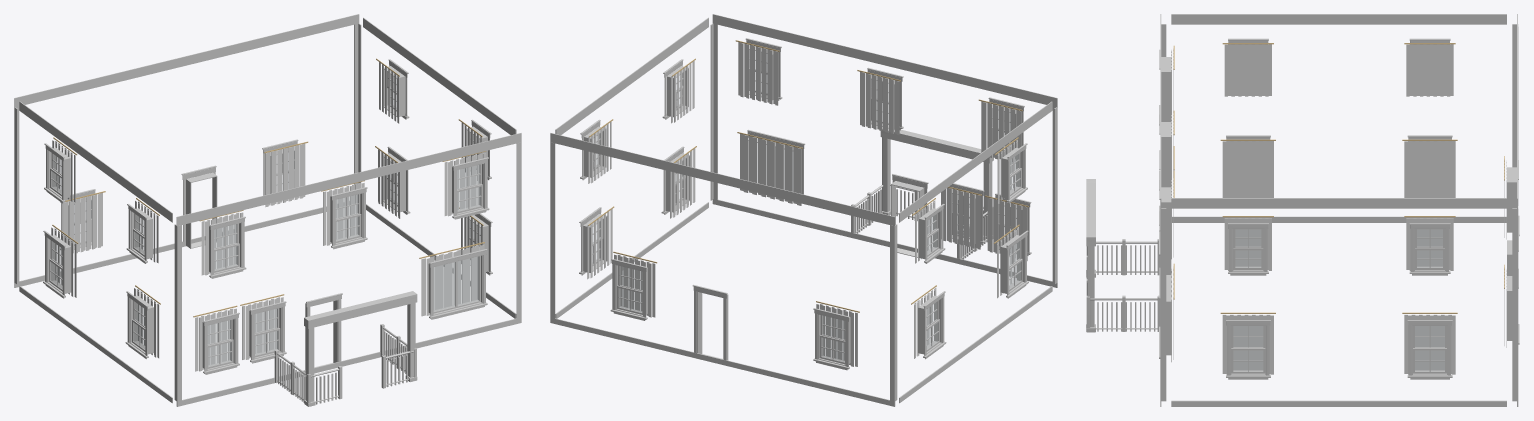
Rendered from SM_Town_House_Mar1_Trim.fbx.
The picture shows the model from 3 angles, left to right: view 1: azimuth 30°, elevation 25°; view 2: azimuth 150°, elevation 25°; view 3: azimuth 270°, elevation 25°; orthographic projection. The views are drawn at different scales.
Parts seen in each view (by area): view 1: SM_Town_House_Mar1_Trim_1; view 2: SM_Town_House_Mar1_Trim_1; view 3: SM_Town_House_Mar1_Trim_1.
Boxes of the visible parts, x1=… form: SM_Town_House_Mar1_Trim_1: x1=14, y1=14, x2=521, y2=406; SM_Town_House_Mar1_Trim_1: x1=550, y1=14, x2=1057, y2=406; SM_Town_House_Mar1_Trim_1: x1=1086, y1=14, x2=1519, y2=406.
Size of the model in its own units: 1113 by 582 by 1096.
